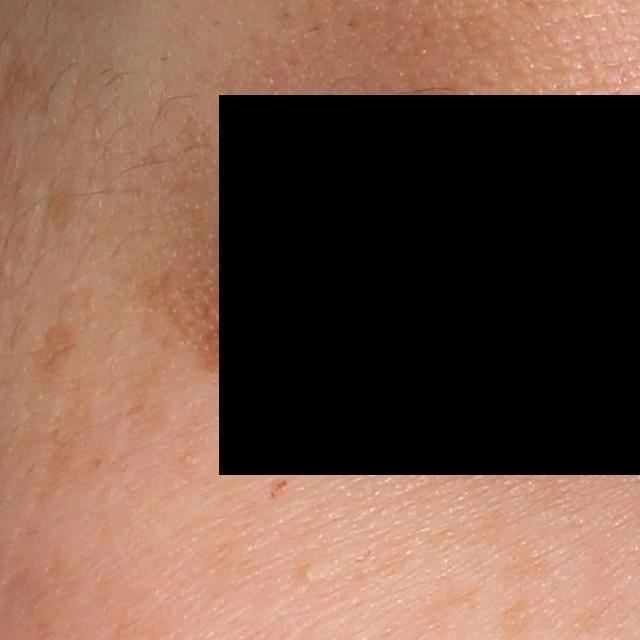comedo: (291, 559, 322, 584)
melasma: (136, 268, 272, 369), (498, 537, 570, 591), (28, 323, 78, 383), (41, 176, 80, 241)
